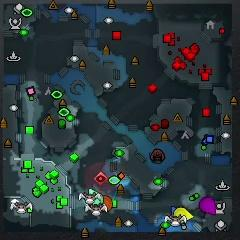p1: (172, 205, 178, 217)
p2: (88, 186, 105, 207)
p3: (200, 197, 217, 216)
p4: (174, 206, 194, 220)
p5: (100, 194, 114, 212)
